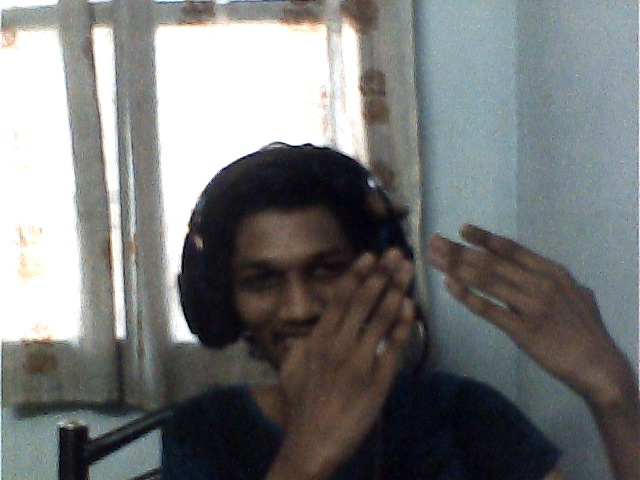ThankYou: (279, 223, 630, 435)
